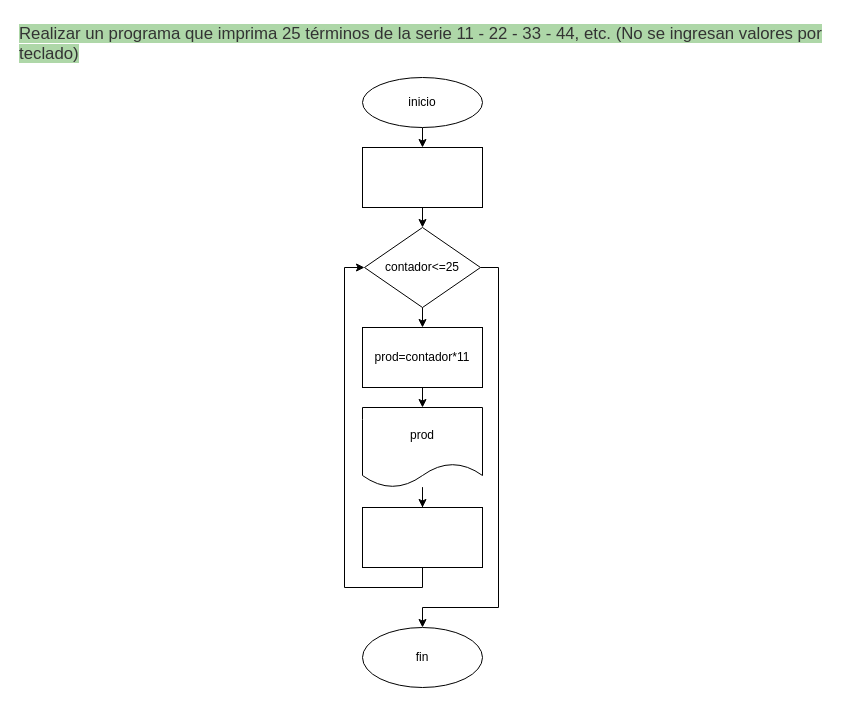
Image size: 844x705. Some labels were removed from this diagram. Here are the shapes that lost their labels. From the top down, the box of each, then its label:
(362, 146, 482, 208): contador=1
(362, 506, 482, 568): contador+=1
